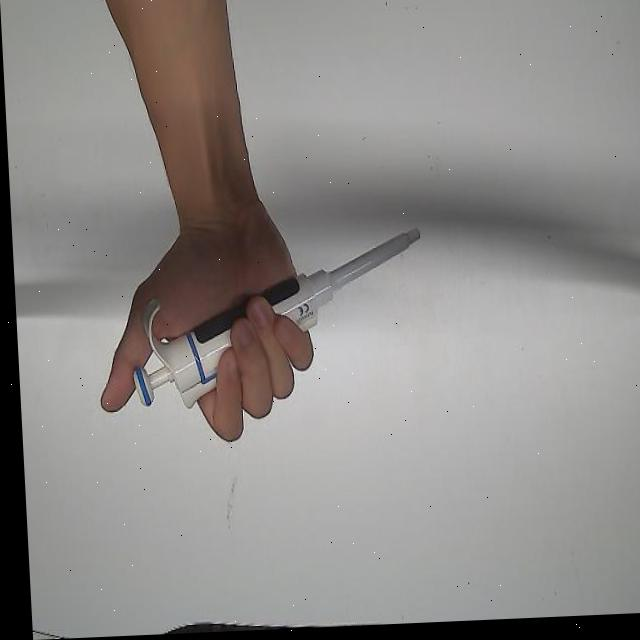Single Channel Pipettor: (122, 229, 430, 415)
